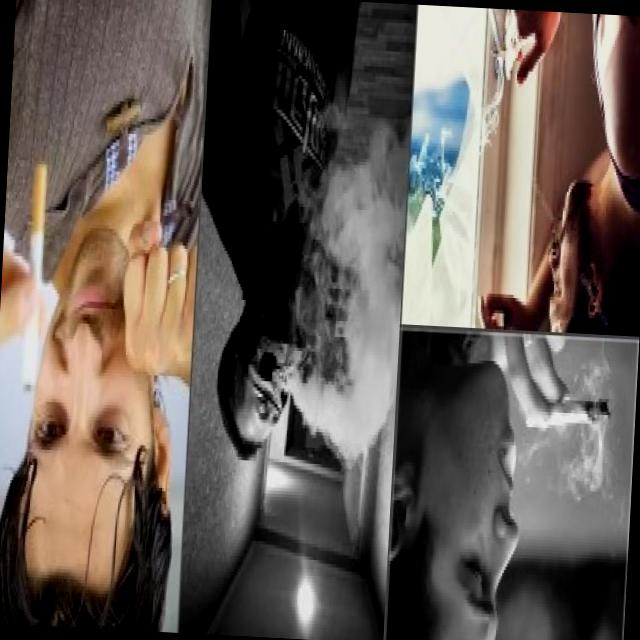cigarette: (20, 164, 50, 398), (524, 385, 614, 438), (491, 38, 519, 68)
